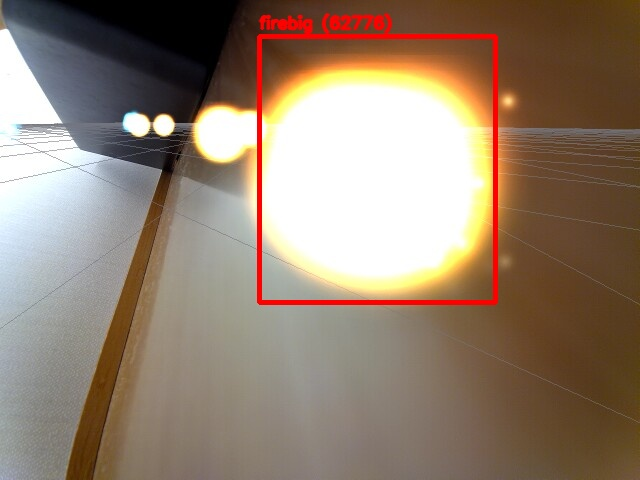firebig: (259, 36, 495, 302)
